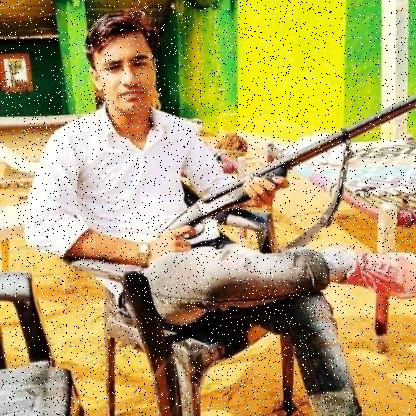rifle: (156, 96, 416, 242)
